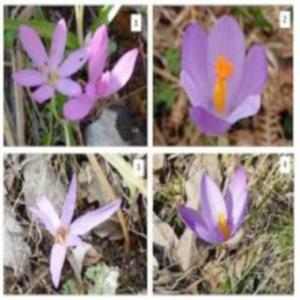Saffron: (31, 174, 126, 286), (183, 14, 267, 136), (15, 21, 88, 102), (178, 166, 250, 248)
